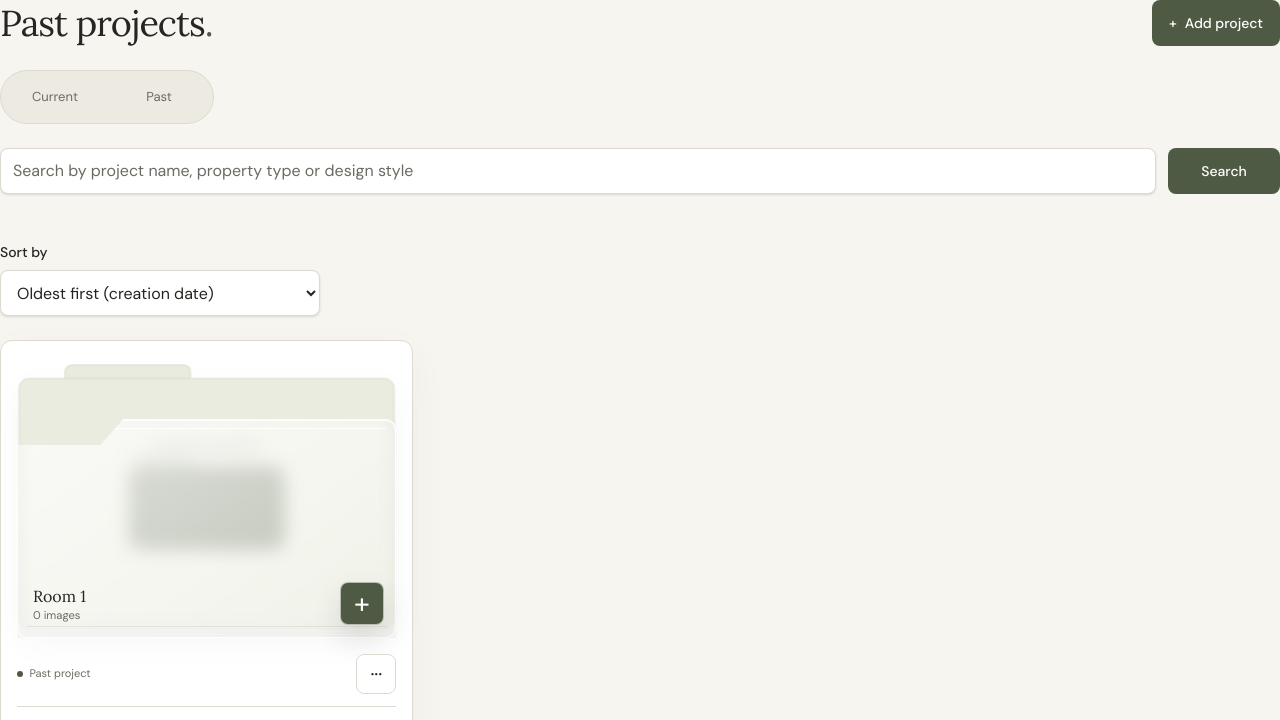
Scenario: a past project can change its completion date without sending the creation date
Click the button "+" at (362, 604), box [340, 582, 384, 625]
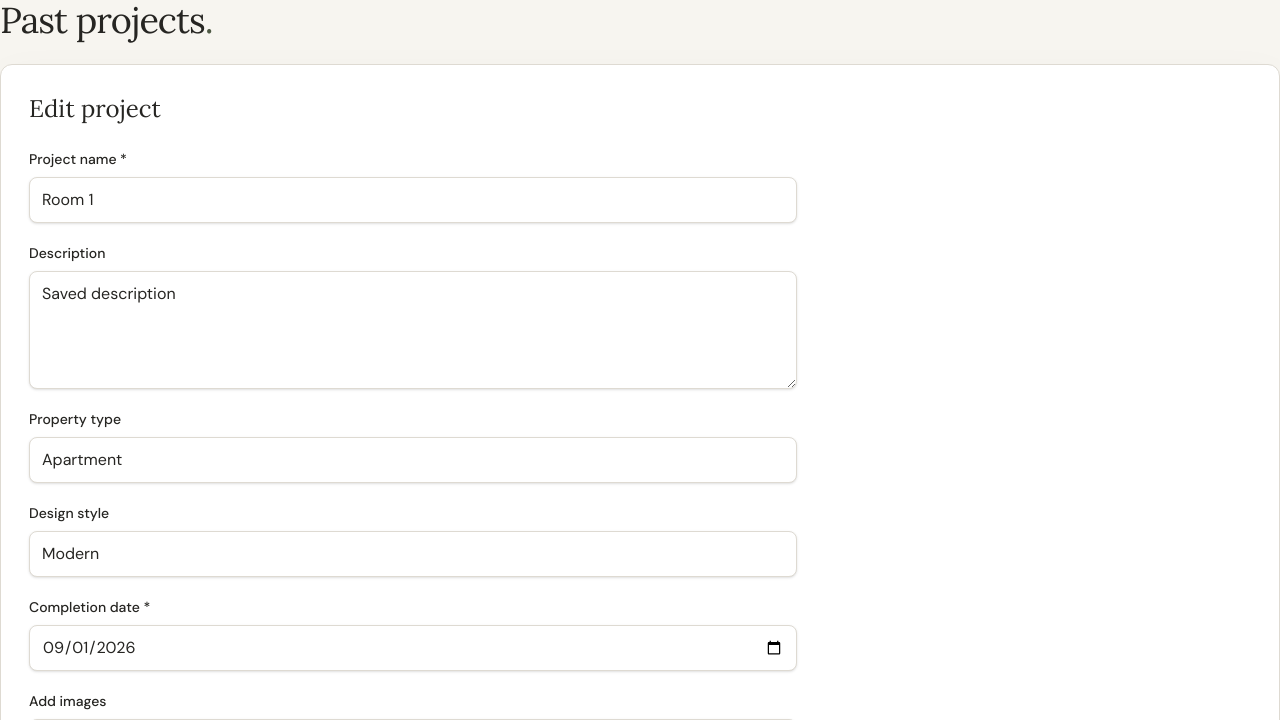
Expected: the heading "Edit project" is shown, [29, 93, 161, 124]
Expected: the date field labelled "Completion date *" is enabled
Type "2026-10-14" into the date field labelled "Completion date *" at (413, 648), box [29, 625, 797, 671]
(page scrolled)
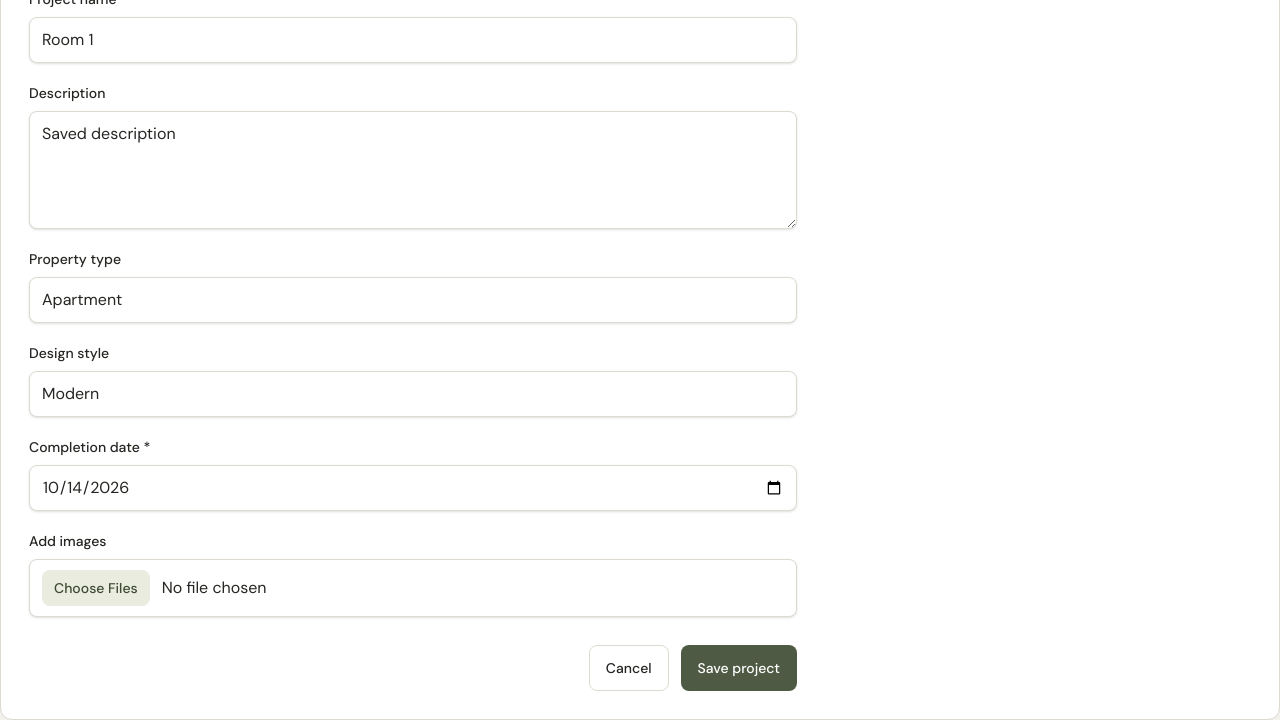
Click the button "Save project" at (739, 668), box [681, 645, 797, 691]
(page scrolled)
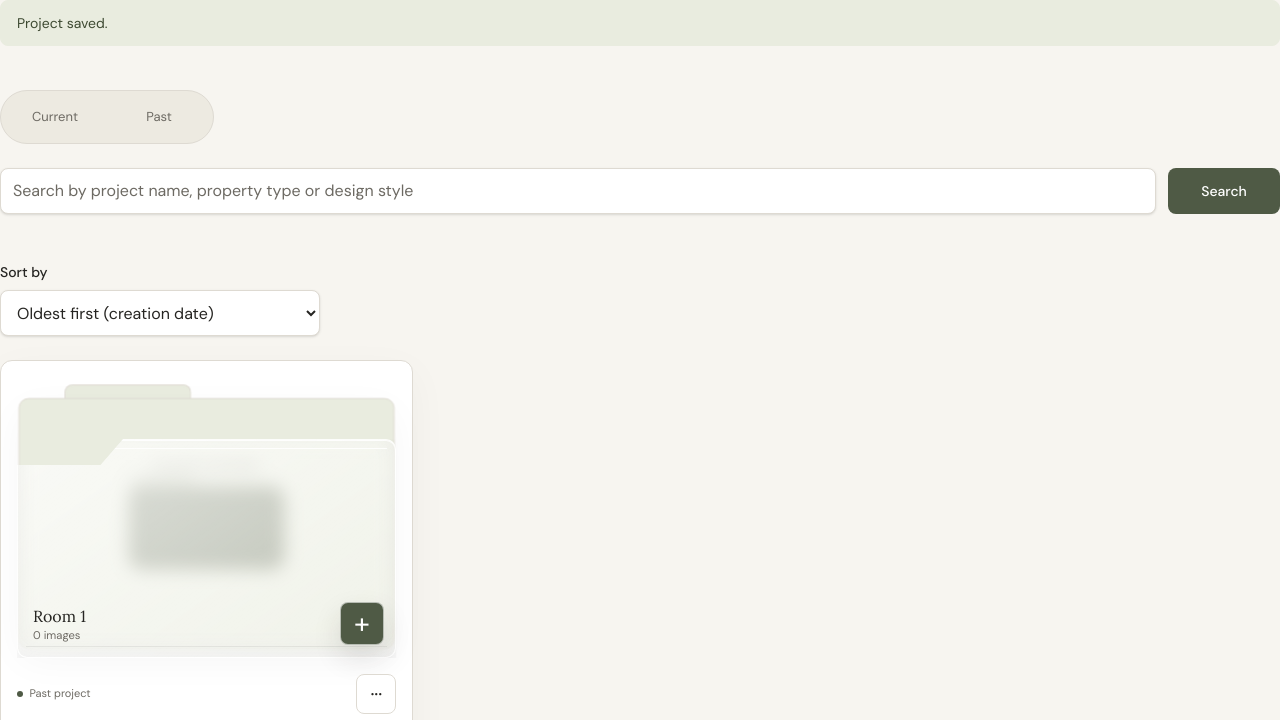
Expected: the text "Project saved." is shown, [0, 0, 1279, 46]
